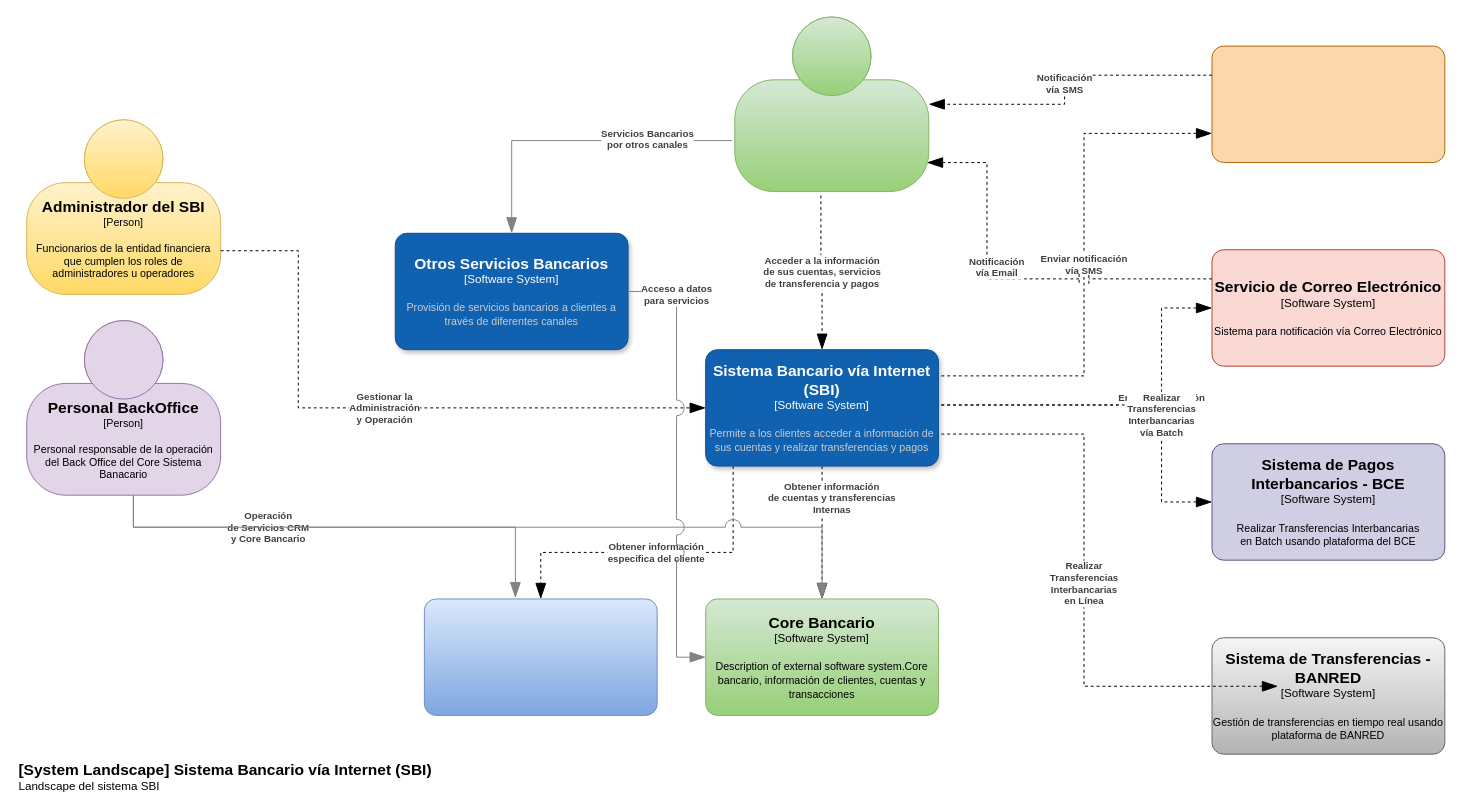
The diagram is 1462 pixels wide and 811 high, and some of its shapes have lost their labels. Each missing label, with the centre of its shape:
Cliente de SBI [Person] Cliente de la entidad financiera con cuenta creada: (831,104)
CRM Bancario [Software System] Sistema de información especializado de clientes: (540,656)
SMS Gateway [Software System] Sistema para notificación vía SMS: (1328,103)
